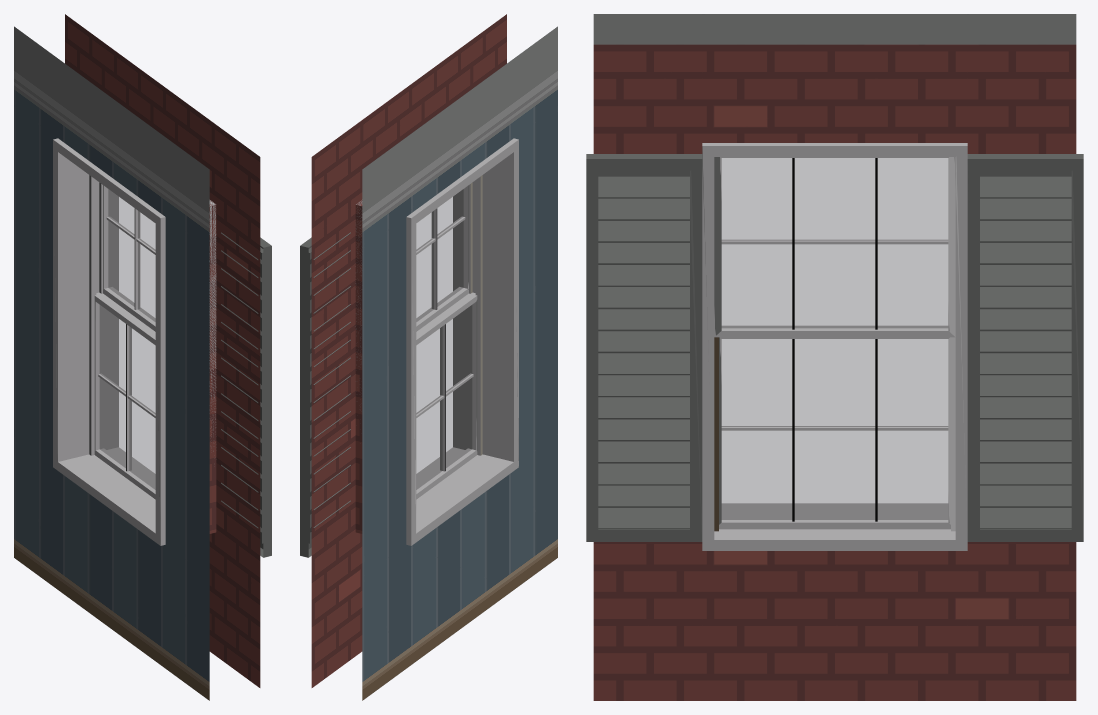
The model's file is SM_window_01_half.glb.
The picture shows the model from 3 angles, left to right: view 1: azimuth 30°, elevation 25°; view 2: azimuth 150°, elevation 25°; view 3: azimuth 270°, elevation 25°; orthographic projection. The views are drawn at different scales.
Visible parts, largest first — view 1: SM_window_01_half; view 2: SM_window_01_half; view 3: SM_window_01_half.
Boxes of the visible parts, <box> form: SM_window_01_half: <box>14,14,271,700</box>; SM_window_01_half: <box>300,14,557,700</box>; SM_window_01_half: <box>586,14,1083,700</box>.
Bounding box in the file's own units: 0.403 × 3 × 2.06.
Materials: 4 (3 with a texture image).
